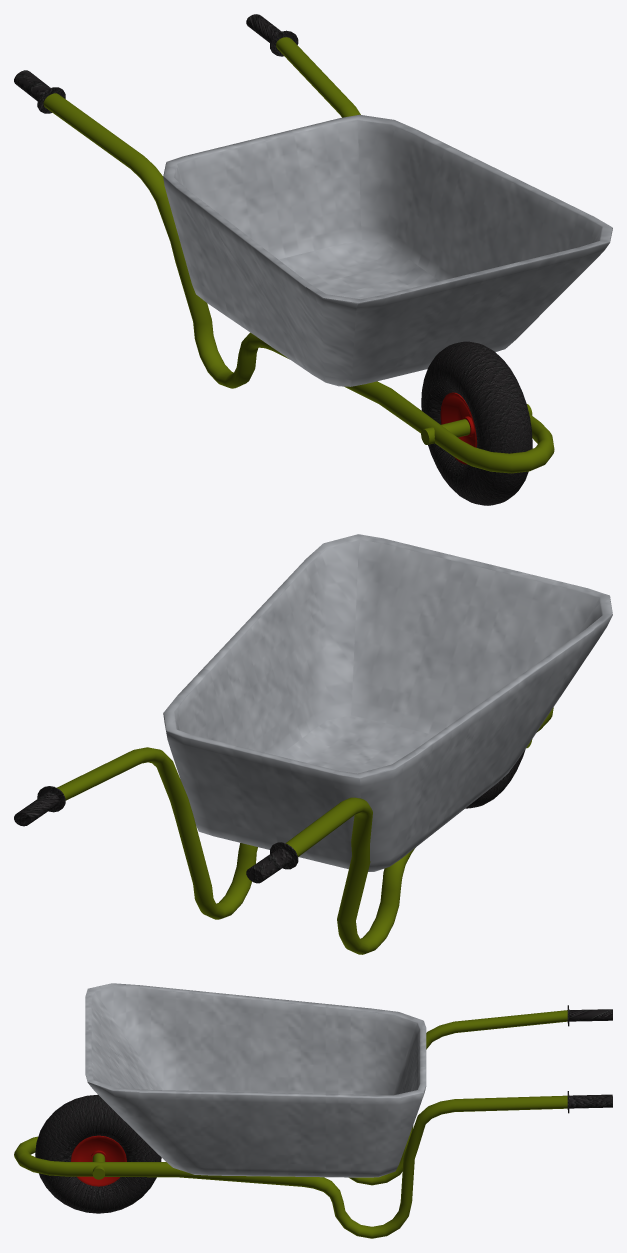
File: WheelBarrow01.fbx
The picture shows the model from 3 angles, top to bottom: view 1: azimuth 30°, elevation 25°; view 2: azimuth 150°, elevation 25°; view 3: azimuth 270°, elevation 25°; orthographic projection. The views are drawn at different scales.
Parts seen in each view (by area): view 1: default; view 2: default; view 3: default.
Boxes of the visible parts, x1,y1,x2,y2 form: default: (14, 14, 612, 505); default: (14, 534, 612, 954); default: (14, 983, 612, 1238).
Size of the model in its own units: 21.19 by 16.23 by 49.9.
